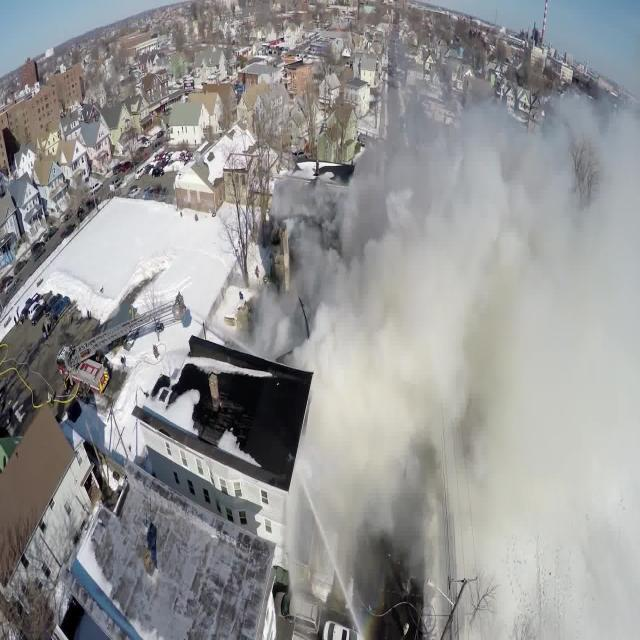Smoke: (244, 96, 640, 633)
